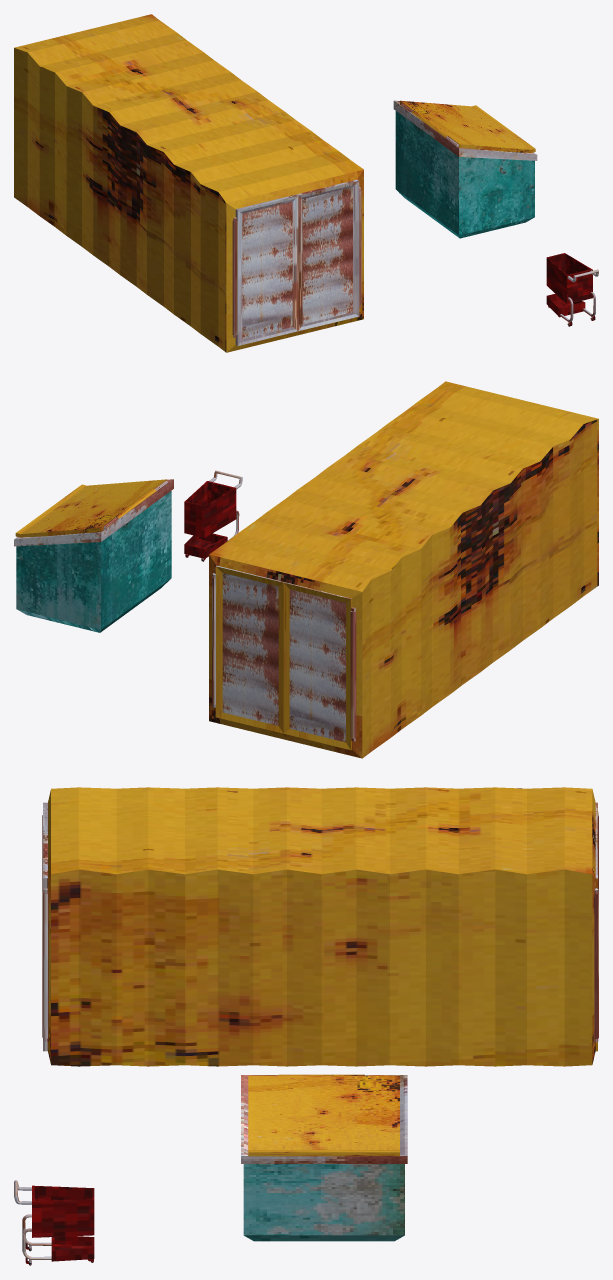
File: Varied large trash 1.fbx
3 views of the same model, one above another, from view 1: azimuth 30°, elevation 25°; view 2: azimuth 150°, elevation 25°; view 3: azimuth 270°, elevation 25° (orthographic). The views are drawn at different scales.
Visible parts, largest first — view 1: Cube.002, Cube.003, Cylinder.002, Cylinder, Cylinder.001, Cube.006; view 2: Cube.002, Cube.003, Cylinder.003, Cylinder.004, Cylinder.001, Cube.006; view 3: Cube.002, Cube.003, Cylinder.001, Cube.006, Cylinder, Cylinder.004.
Boxes of the visible parts, x1,y1,x2,y2 form: Cube.002: [14, 14, 363, 352]; Cube.003: [393, 100, 537, 238]; Cylinder.002: [232, 194, 298, 345]; Cylinder: [297, 179, 361, 330]; Cylinder.001: [400, 100, 535, 152]; Cube.006: [546, 253, 598, 326]; Cube.002: [209, 381, 598, 758]; Cube.003: [14, 479, 173, 632]; Cylinder.003: [283, 582, 356, 750]; Cylinder.004: [212, 565, 283, 733]; Cylinder.001: [15, 479, 167, 537]; Cube.006: [184, 470, 242, 561]; Cube.002: [48, 787, 595, 1066]; Cube.003: [241, 1075, 407, 1241]; Cylinder.001: [248, 1074, 399, 1156]; Cube.006: [14, 1180, 94, 1265]; Cylinder: [42, 840, 48, 1051]; Cylinder.004: [594, 840, 598, 1051].
Size of the model in its own units: 2868 by 1428 by 2948.
Materials: 5 (4 with a texture image).
